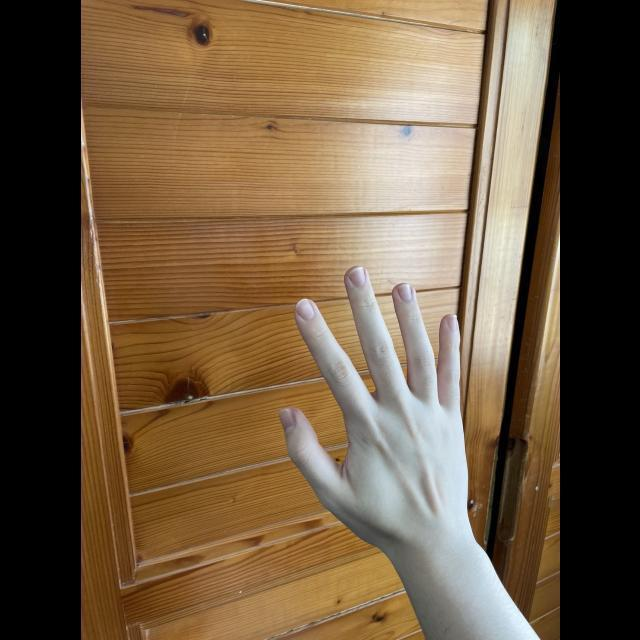bare_hand: (261, 260, 501, 554)
